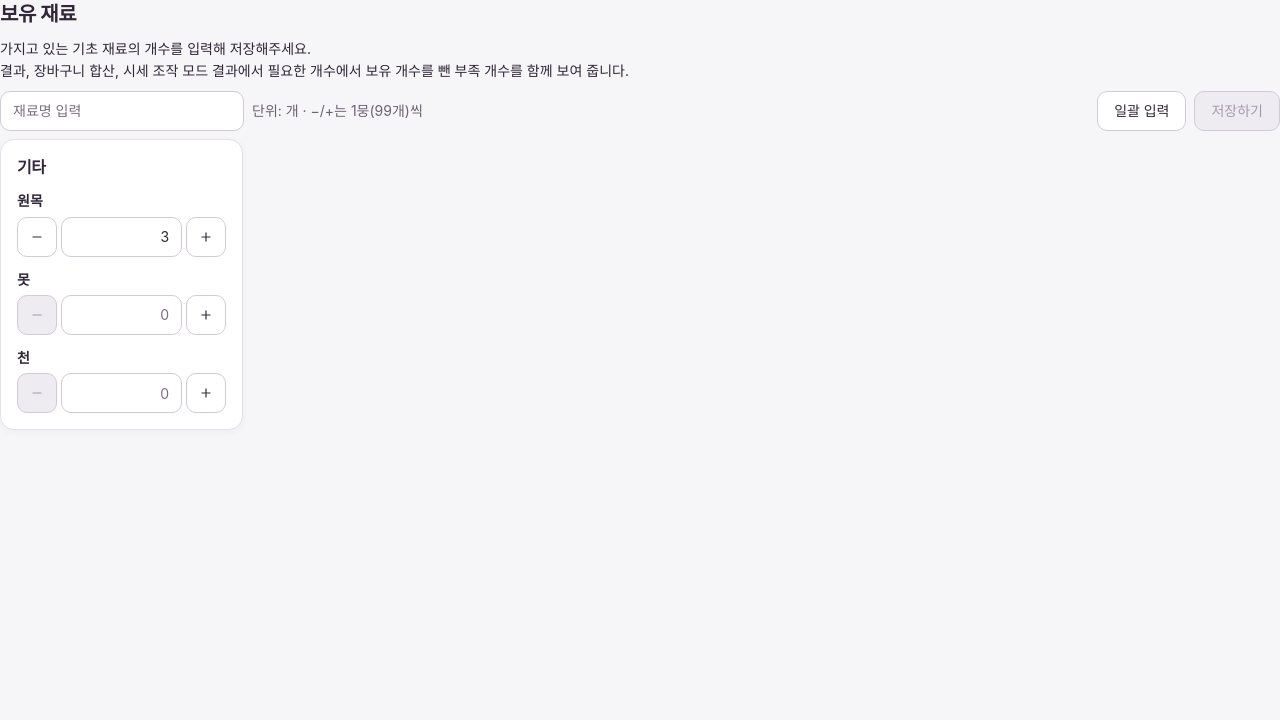
Test case: InventoryPage › 저장하지 못하면 서버 메시지를 보여 주고 입력한 값은 그대로 둔다
Check: the number field labelled "원목 보유 개수" is shown, box [74,218,169,256]
Type "5" into the number field labelled "못 보유 개수". click: (122, 315)
box: [74,296,169,334]
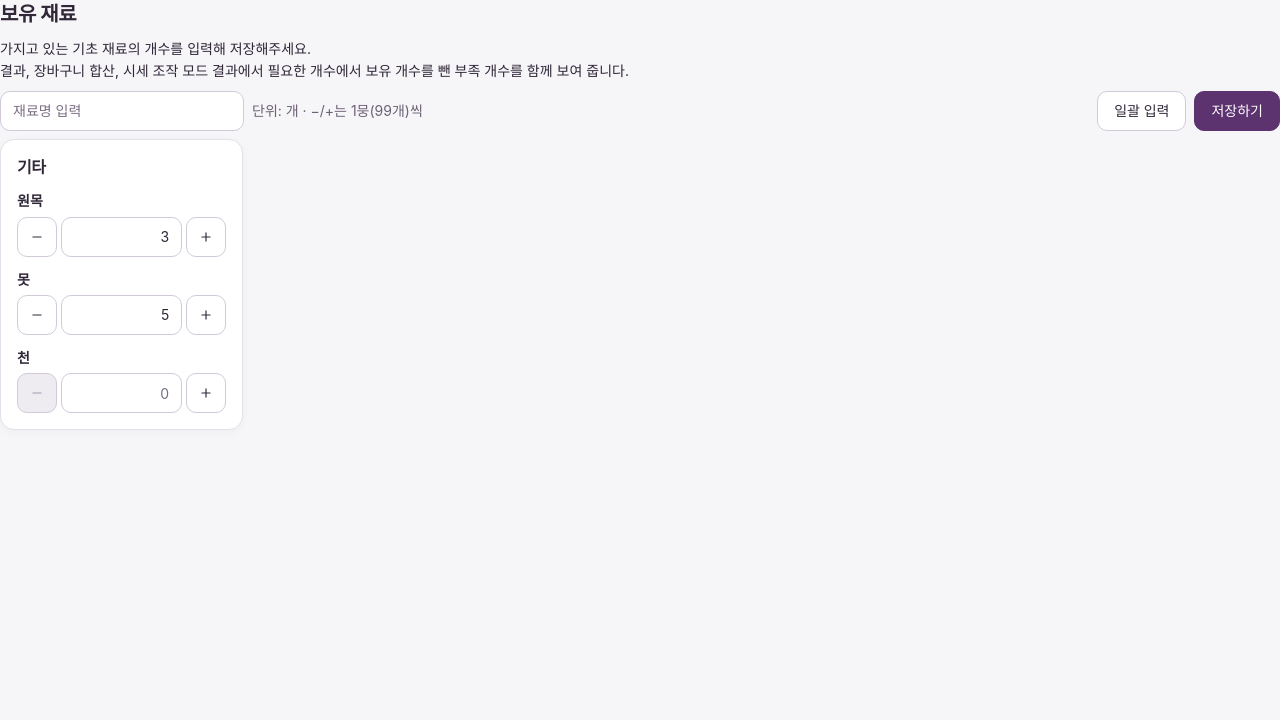
Click the button "저장하기". click: (1237, 111)
box: [1194,91,1279,131]
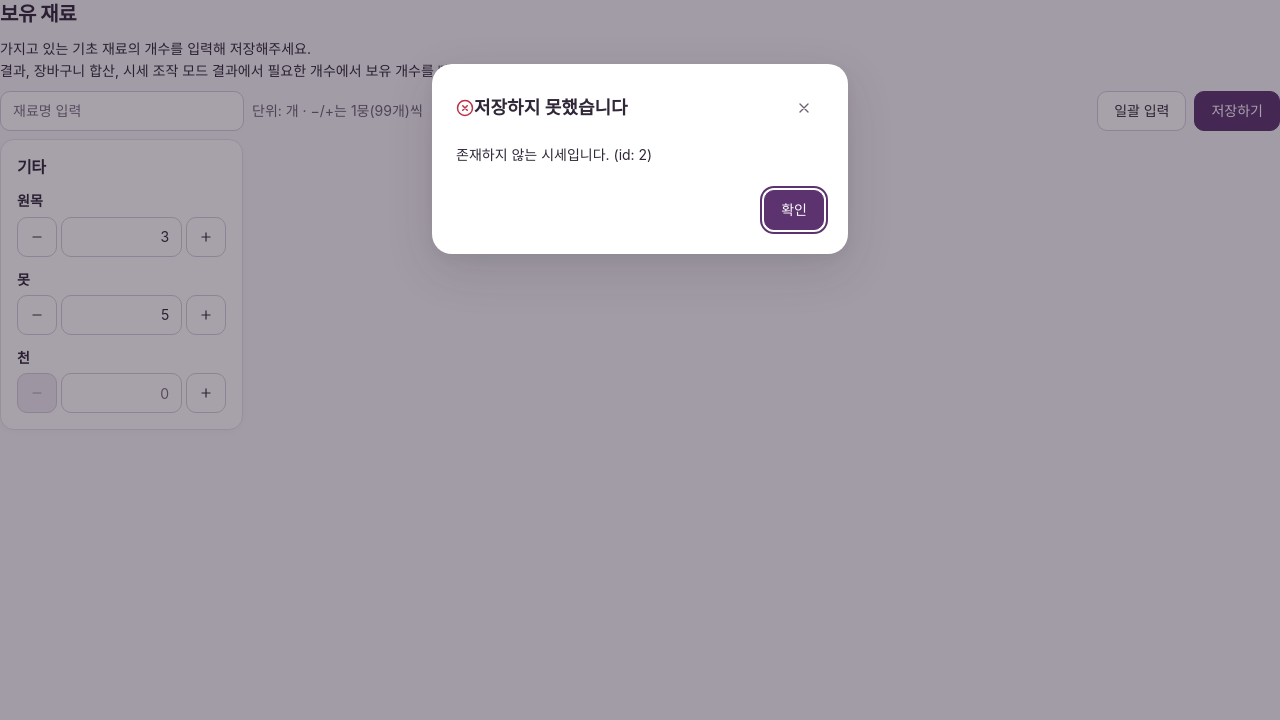
Check: the button "저장하기" is enabled, box [1194,91,1279,131]
Check: the text "존재하지 않는 시세입니다. (id: 2)" is shown, box [456,146,652,163]
